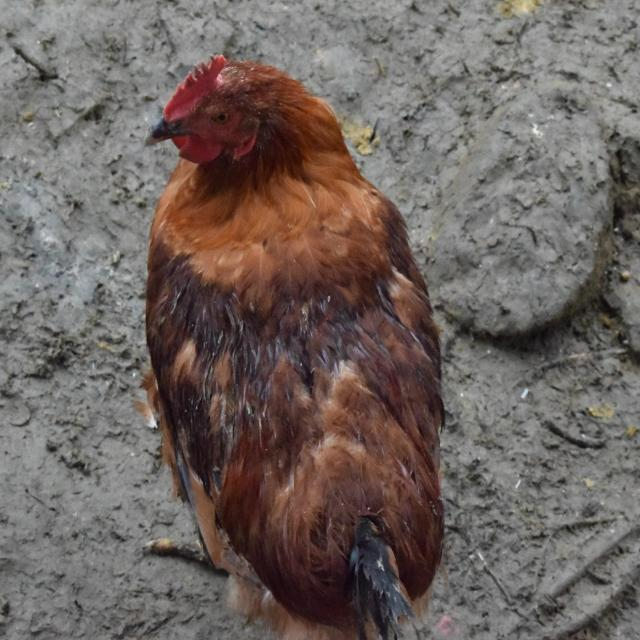cook: (144, 56, 444, 638)
